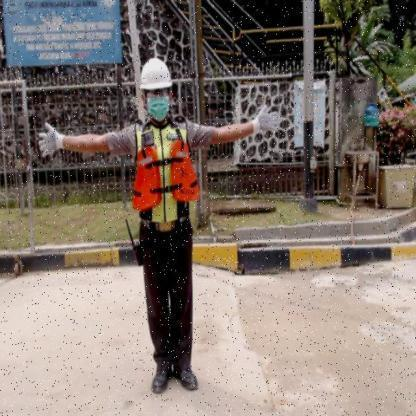boots: (150, 362, 174, 396), (172, 365, 200, 392)
gloves: (37, 119, 68, 160), (249, 101, 282, 136)
goggles: (146, 89, 171, 97)
helmet: (138, 57, 172, 88)
mask: (146, 100, 170, 122)
vest: (130, 138, 200, 212)
